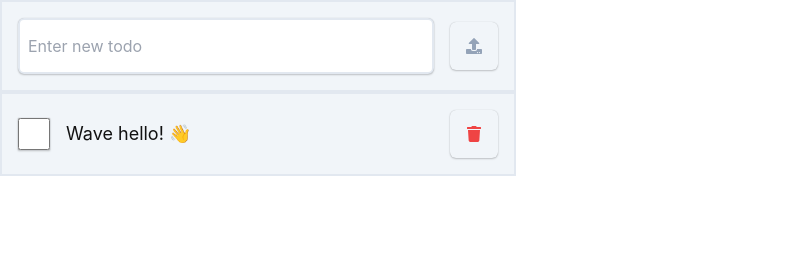
Test case: TodoList › should add a new todo
In the field with placeholder "Enter new todo": (226, 46) top-left (18, 18), bottom-right (434, 74), type "Get Coffee ☕☕☕"
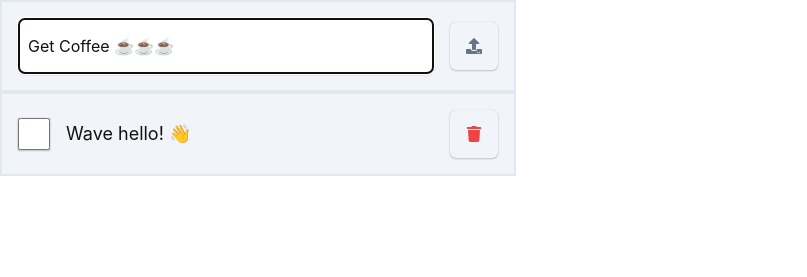
Click the 1st button named "Submit": (474, 46) top-left (450, 22), bottom-right (498, 70)
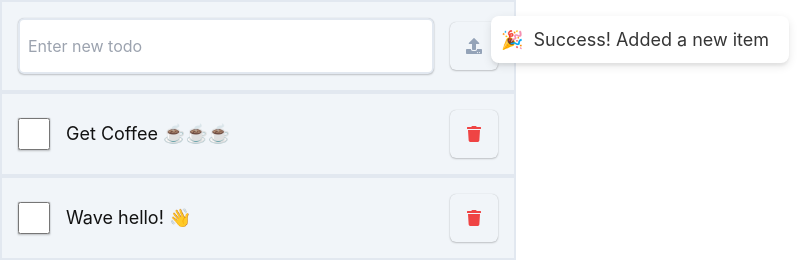
Expected: the field with placeholder "Enter new todo" is empty, top-left (18, 18), bottom-right (434, 74)
Expected: the text "Get Coffee ☕☕☕" is shown, top-left (66, 123), bottom-right (230, 144)
